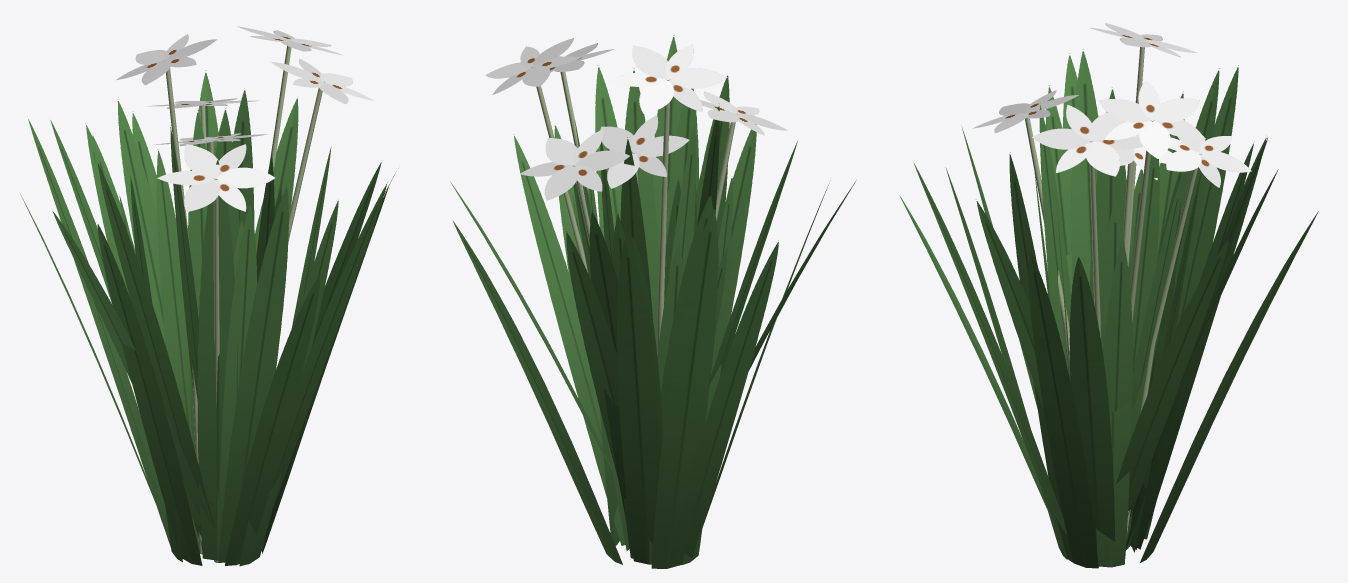
The model's file is dietes-iridioides.glb.
3 renders of one model, left to right at view 1: azimuth 30°, elevation 25°; view 2: azimuth 150°, elevation 25°; view 3: azimuth 270°, elevation 25°, orthographic.
Visible parts, largest first — view 1: folhas, flores, haste; view 2: folhas, flores, haste; view 3: folhas, flores, haste.
Boxes of the visible parts, box(x1,y1,x2,y2) form: folhas: box(20, 70, 396, 566); flores: box(116, 26, 373, 211); haste: box(164, 46, 324, 562); folhas: box(450, 35, 856, 568); flores: box(485, 38, 787, 200); haste: box(531, 67, 735, 357); folhas: box(899, 49, 1318, 568); flores: box(972, 23, 1251, 187); haste: box(1024, 40, 1201, 535).
Bounding box in the file's own units: 0.569 × 0.8 × 0.6.
Materials: 3 (2 with a texture image).
